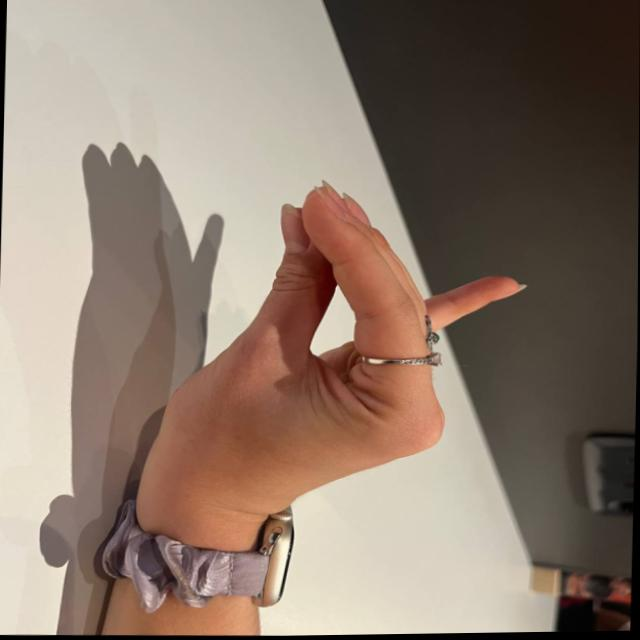iu: (137, 170, 537, 521)
